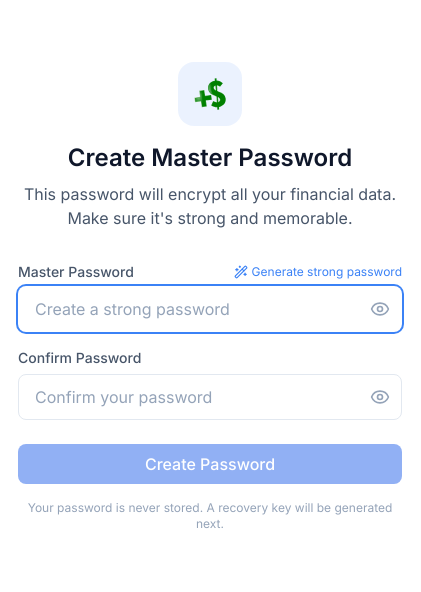
SetupPage › shows validation error when passwords do not match
Type "password-one" into the password field labelled "Master Password" at [210, 309], box [18, 286, 402, 332]
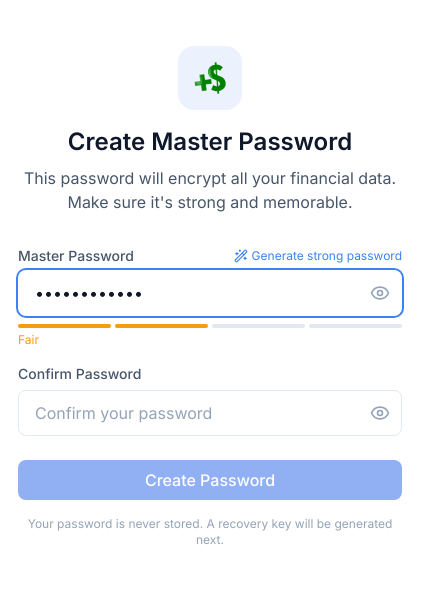
Type "password-two" into the password field labelled "Confirm Password" at [210, 413], box [18, 390, 402, 436]
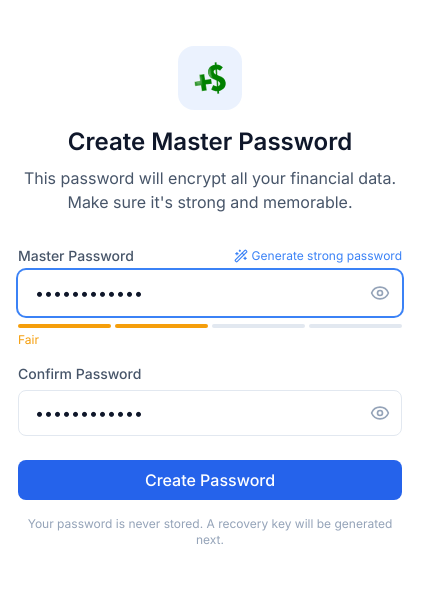
Click the button "Create Password" at [210, 480], box [18, 460, 402, 500]
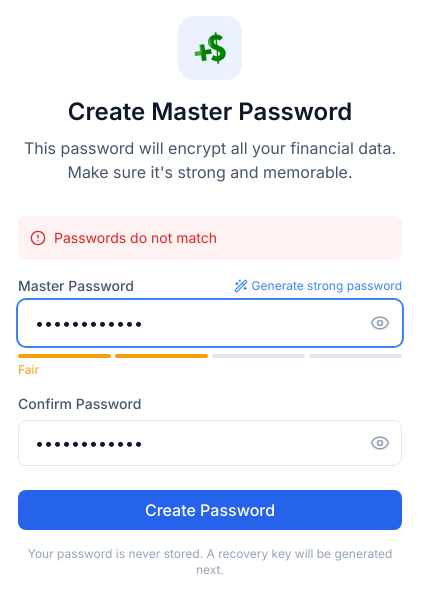
Result: the text "Passwords do not match" is shown at [18, 216, 402, 260]
